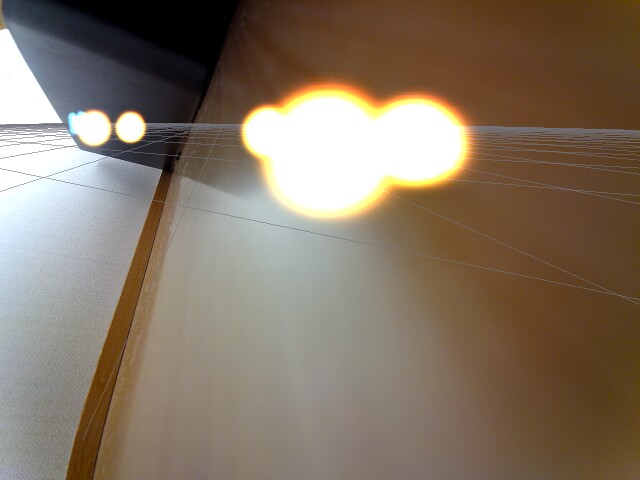firebig: (213, 66, 497, 237)
